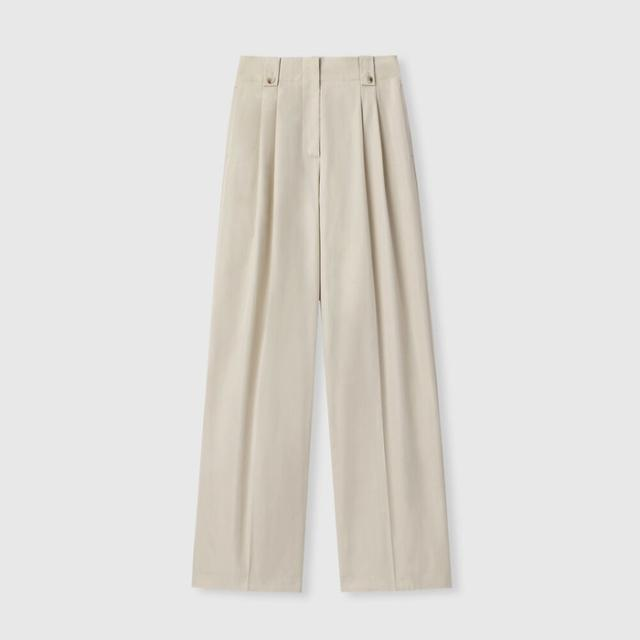long-pants: (190, 58, 454, 598)
